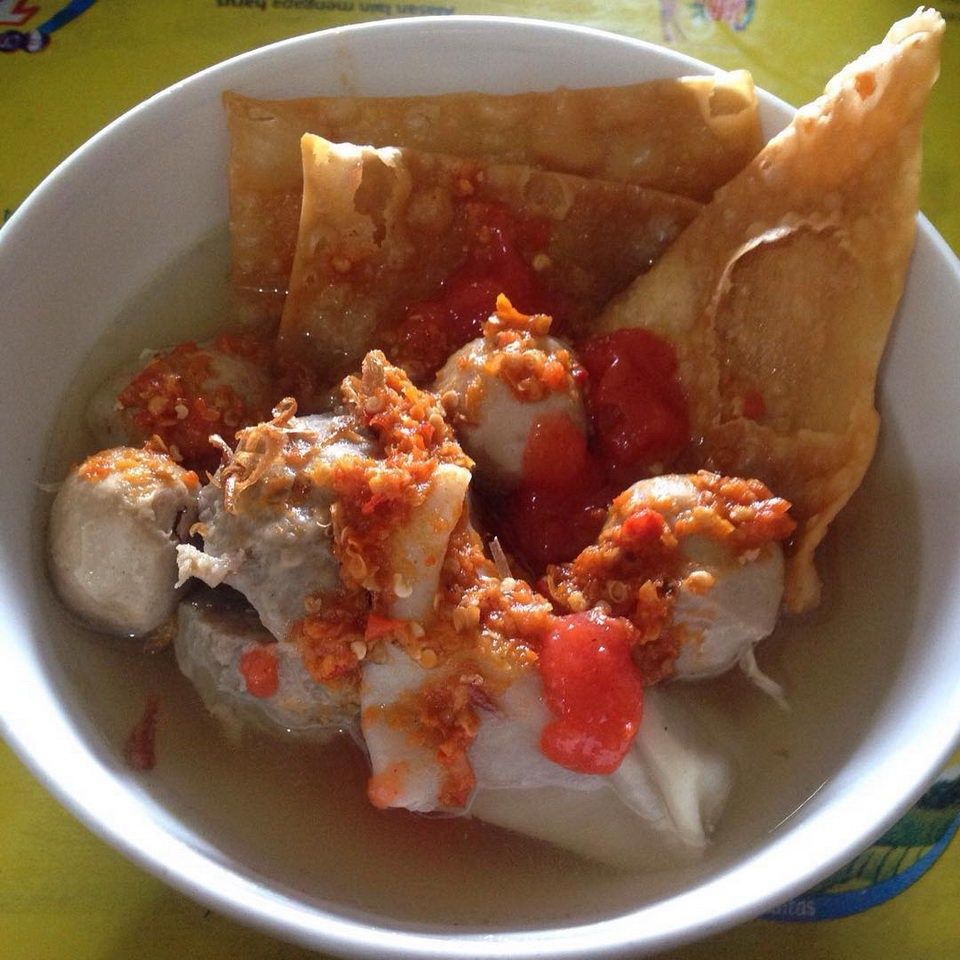bakso_malang: (41, 9, 960, 872)
